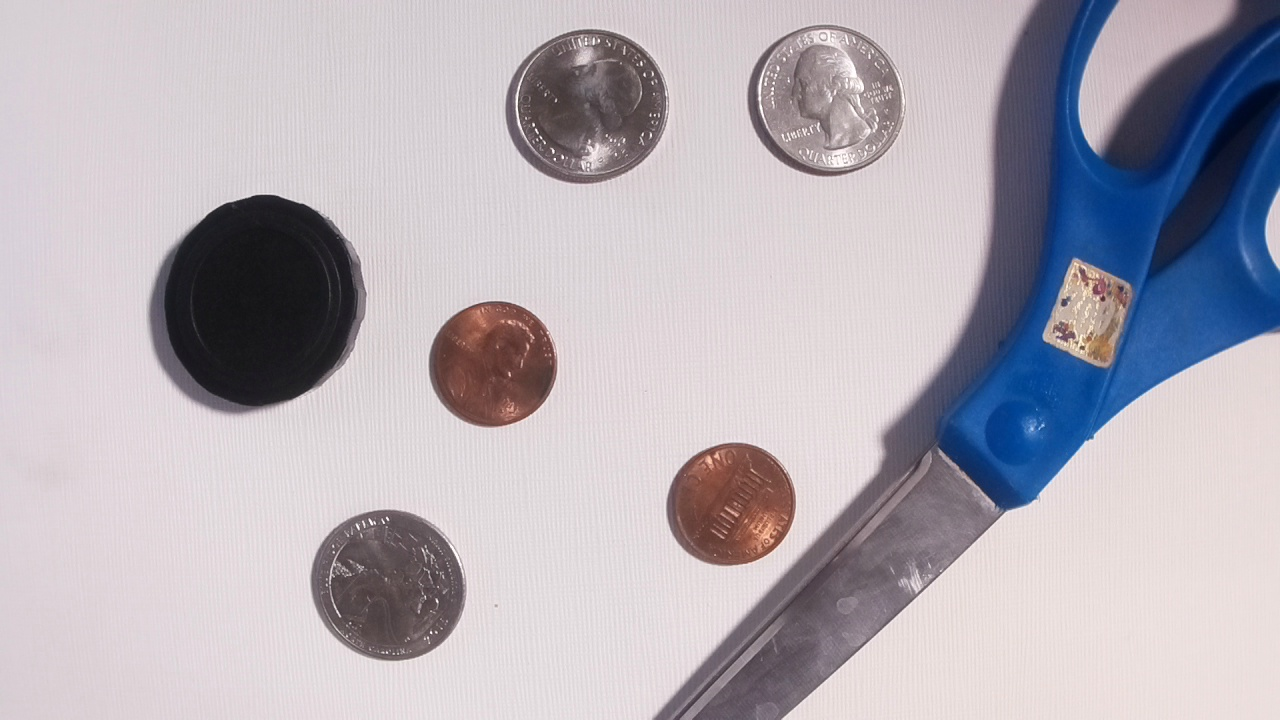penny: (425, 299, 560, 429), (669, 441, 796, 565)
quarter: (508, 25, 670, 185), (305, 509, 469, 664), (749, 23, 908, 177)
